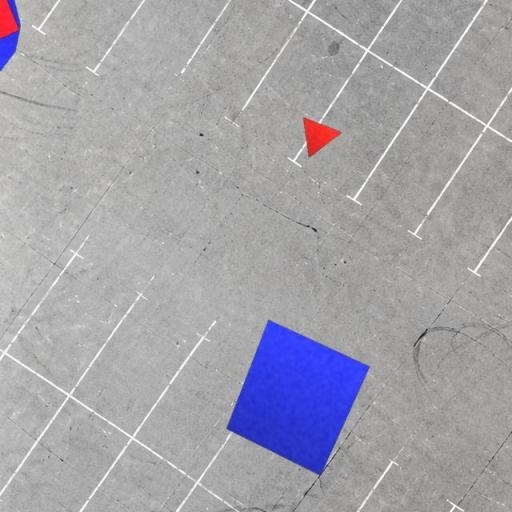BLUE_SQUARE: (226, 319, 370, 477)
